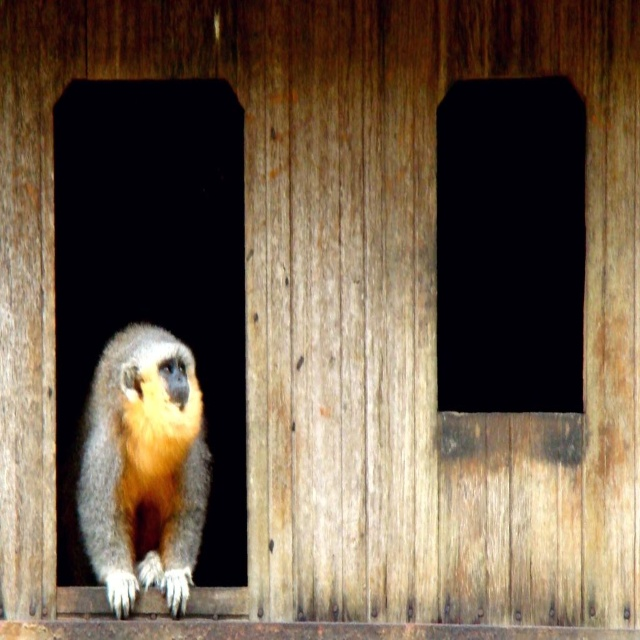Monkey: (62, 320, 214, 640)
